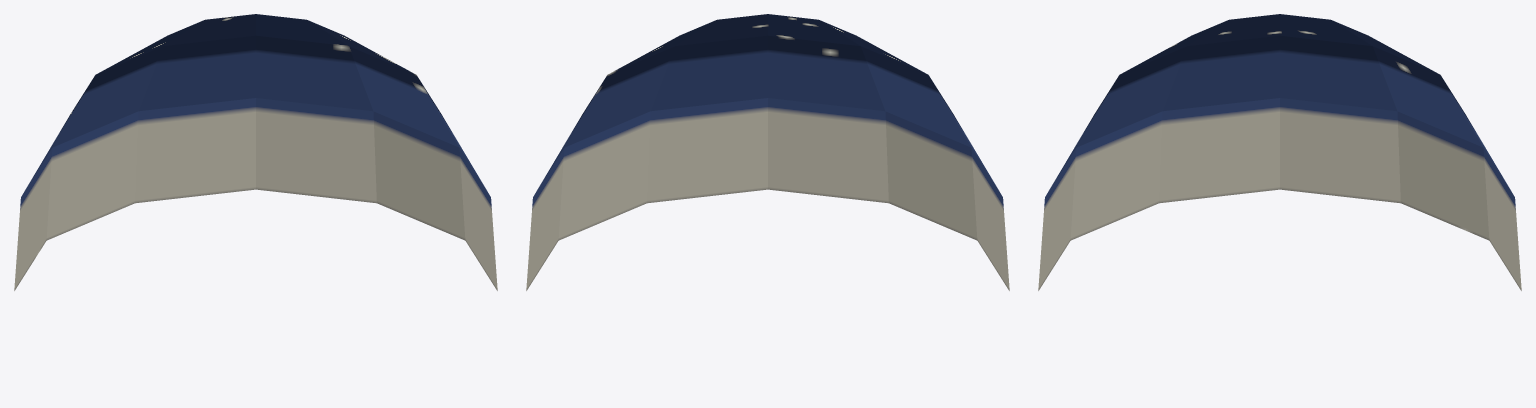
The model's file is sky.backdrop.glb.
3 views of the same model, side by side, from view 1: azimuth 30°, elevation 25°; view 2: azimuth 150°, elevation 25°; view 3: azimuth 270°, elevation 25° (orthographic).
Visible parts, largest first — view 1: kit_shell_sky; view 2: kit_shell_sky; view 3: kit_shell_sky.
Boxes of the visible parts, x1,y1,x2,y2 form: kit_shell_sky: (14,14,497,290); kit_shell_sky: (526,14,1009,290); kit_shell_sky: (1038,14,1521,290).
Bounding box in the file's own units: 791 × 460 × 791.
1 material, 1 textured.
